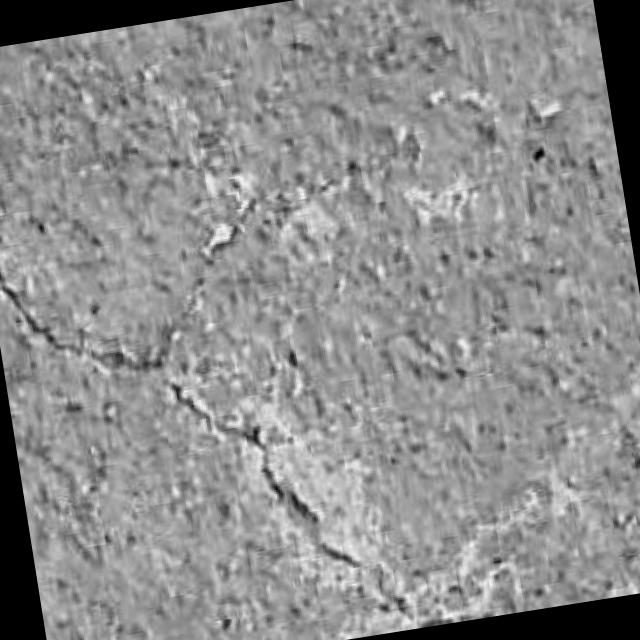crack: (163, 378, 364, 570), (167, 380, 361, 567), (0, 272, 171, 373)
